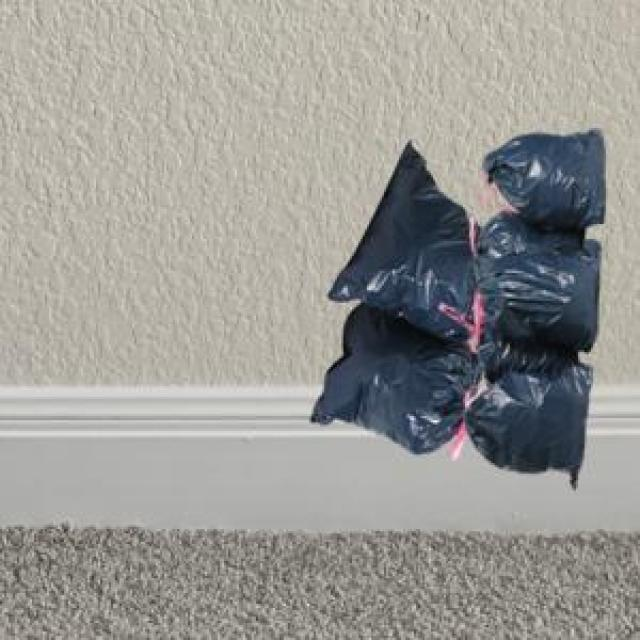Trashbag: (357, 166, 477, 327), (331, 314, 469, 452), (462, 356, 590, 486), (492, 120, 611, 228), (483, 245, 602, 342)
